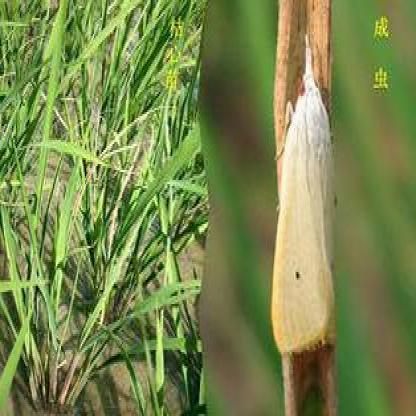stem-borer: (271, 28, 340, 362)
